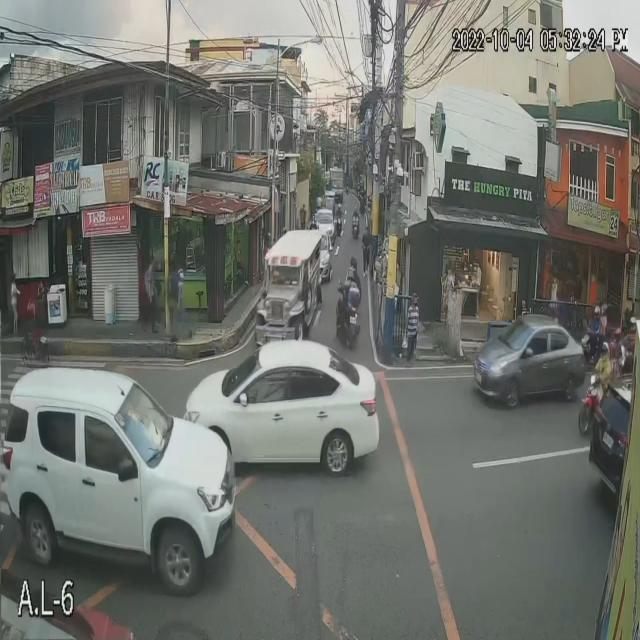Full-Faced: (598, 335, 613, 364), (601, 298, 613, 322), (588, 304, 601, 325), (347, 268, 357, 294), (351, 204, 361, 222), (350, 254, 355, 273)
